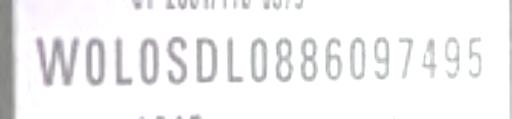letter: (34, 33, 82, 90), (110, 30, 140, 91), (190, 27, 222, 84), (82, 30, 110, 91), (270, 33, 300, 88), (132, 33, 164, 84), (162, 30, 190, 85), (294, 33, 322, 88), (416, 33, 444, 82), (224, 30, 248, 87), (463, 30, 487, 85), (322, 33, 346, 84), (346, 33, 370, 84), (371, 33, 395, 84), (441, 33, 465, 84), (245, 33, 269, 84), (396, 30, 416, 81)
